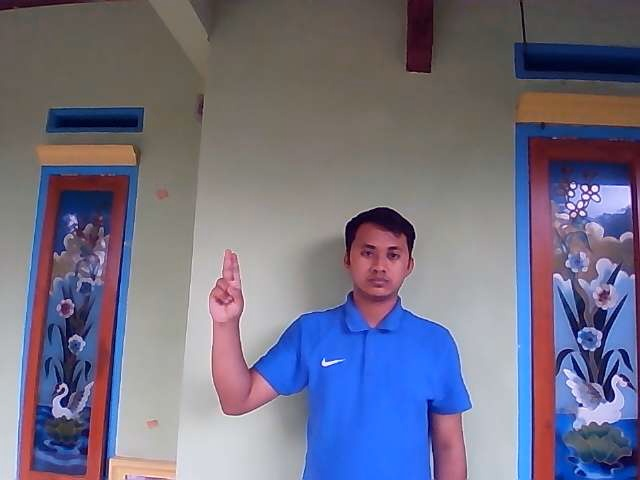U: (207, 248, 244, 322)
